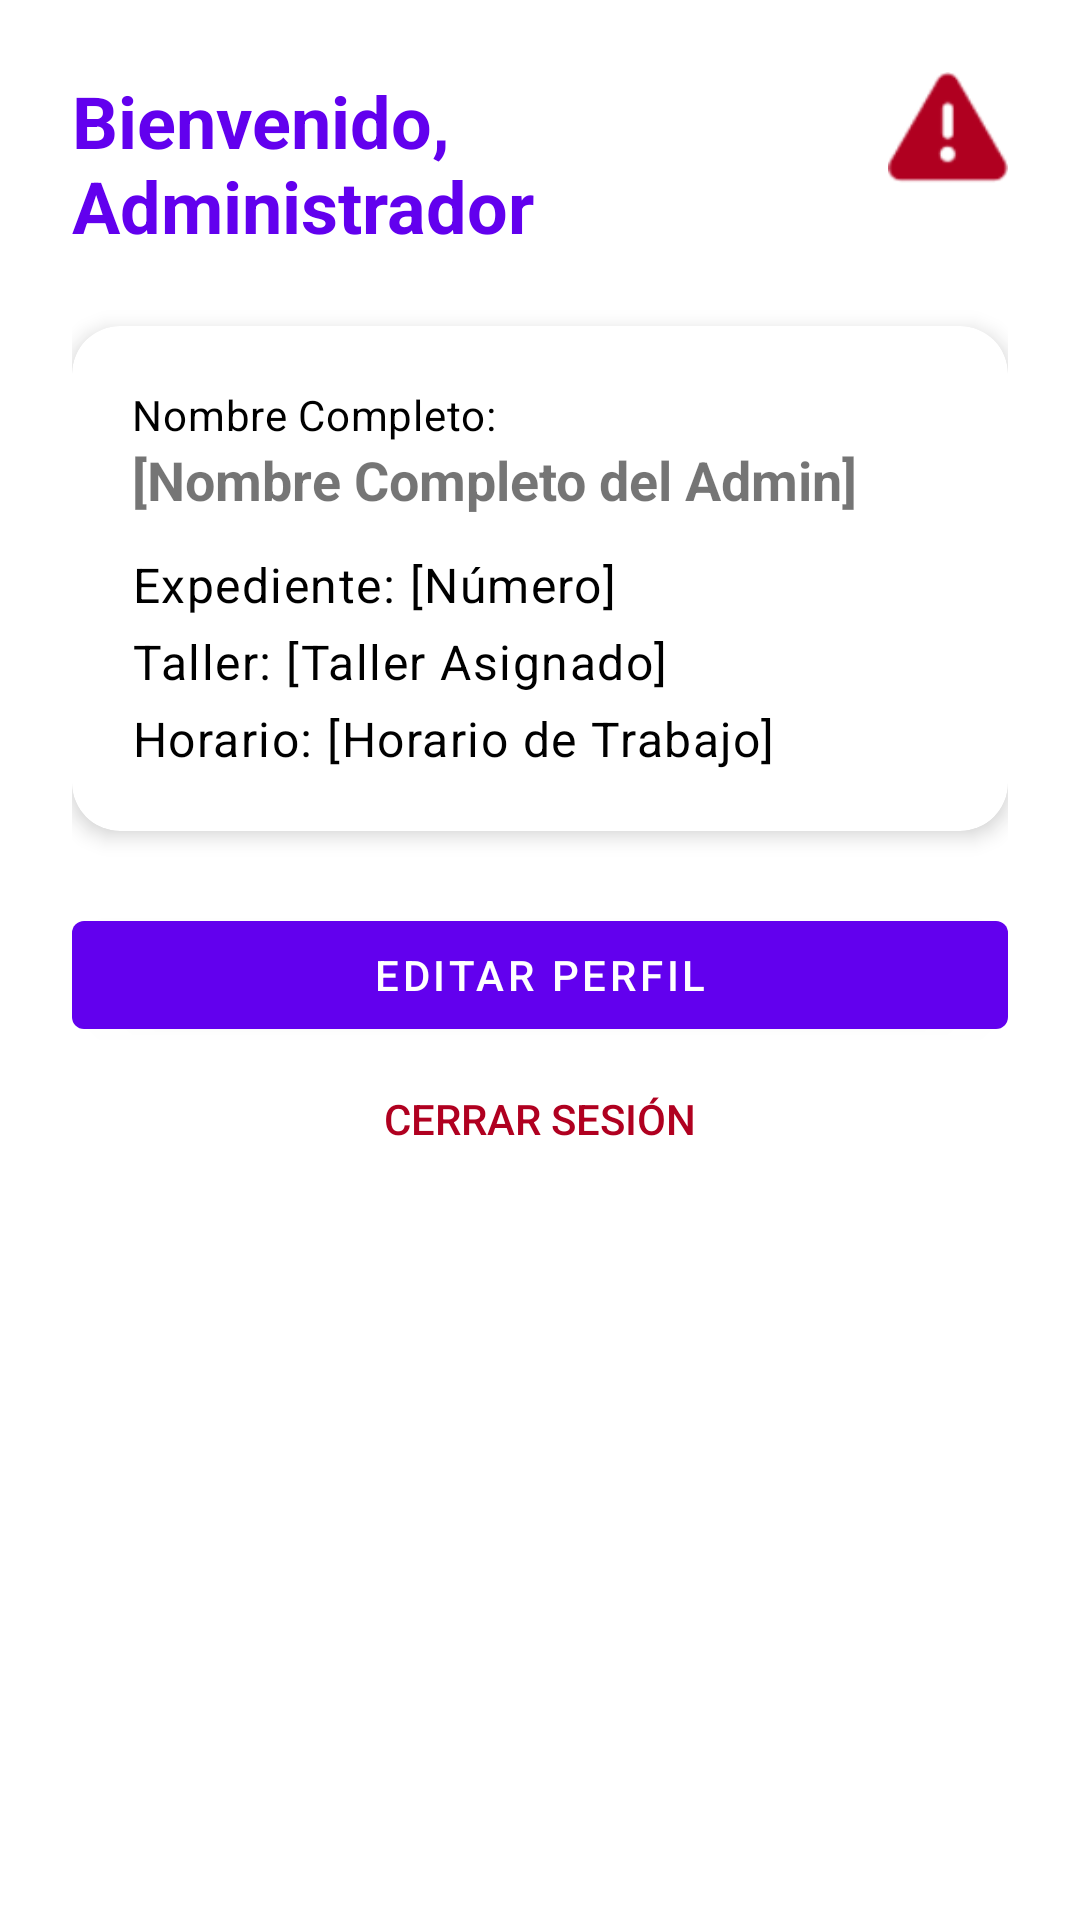

Named icons in this screenshot (1080x1920) and their bounding boxes, rect(x1, y1, x2, y2):
Icono de Alertas: rect(888, 72, 1008, 182)
